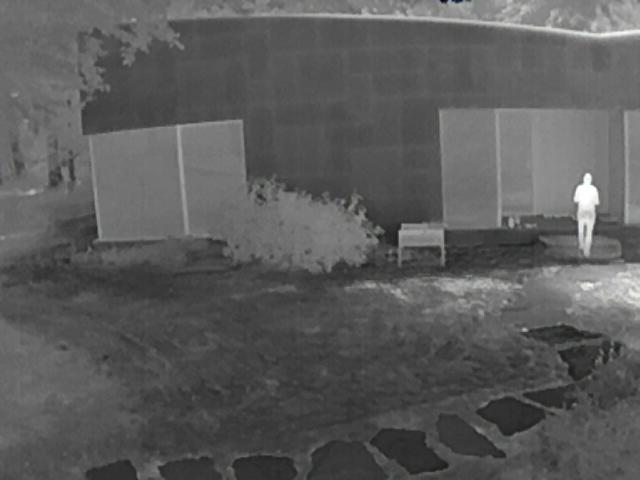person: (572, 172, 600, 256)
